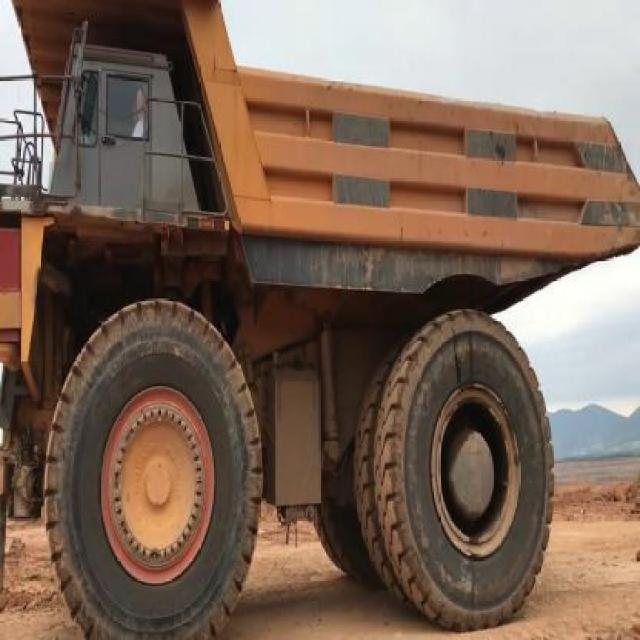Dump Truck: (1, 4, 639, 639)
